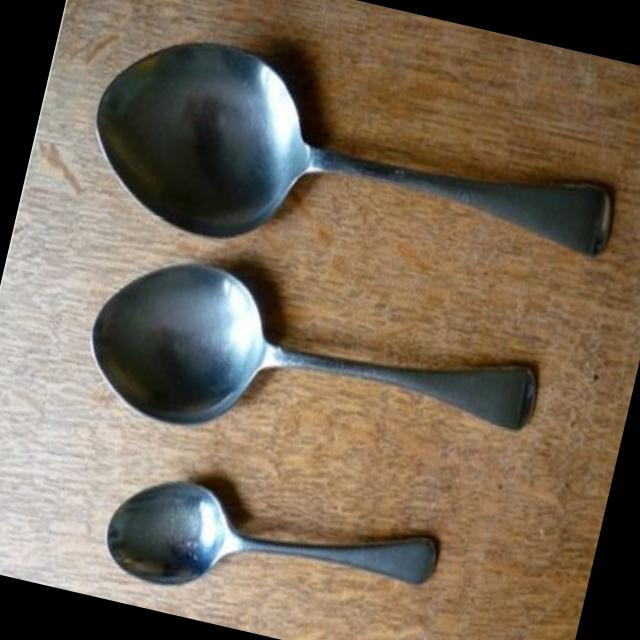spoon: (98, 446, 449, 640)
